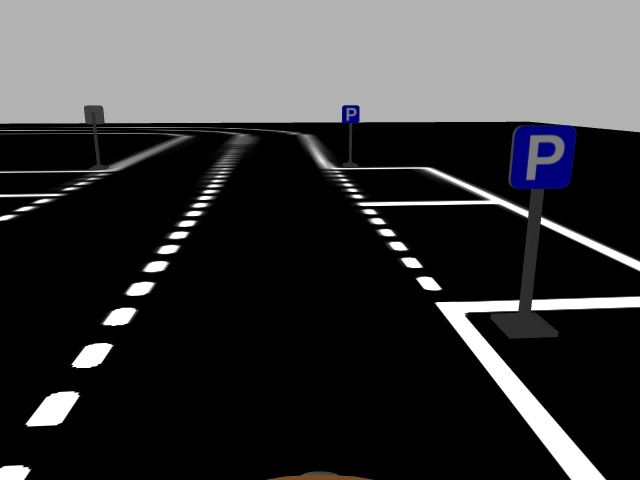parking: (507, 123, 576, 190), (341, 103, 359, 124)
